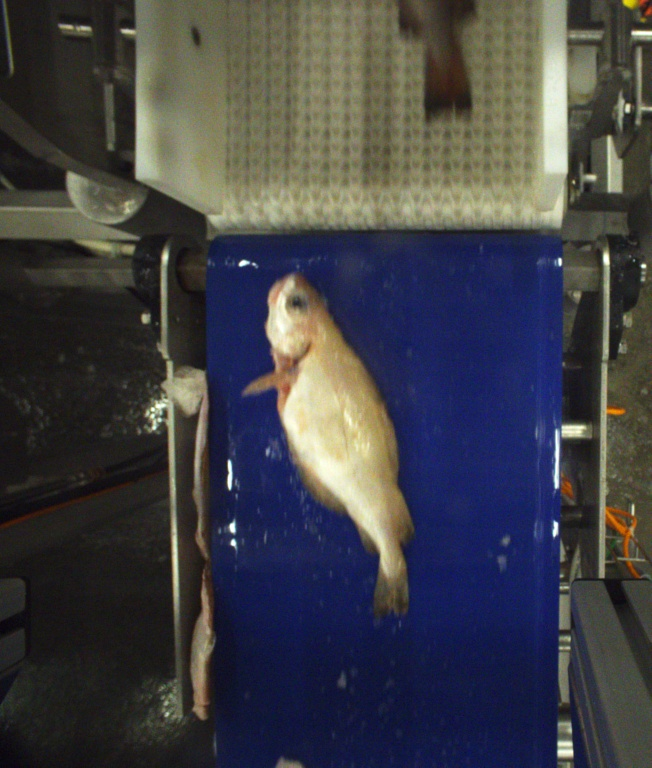BIB: (241, 273, 420, 622)
